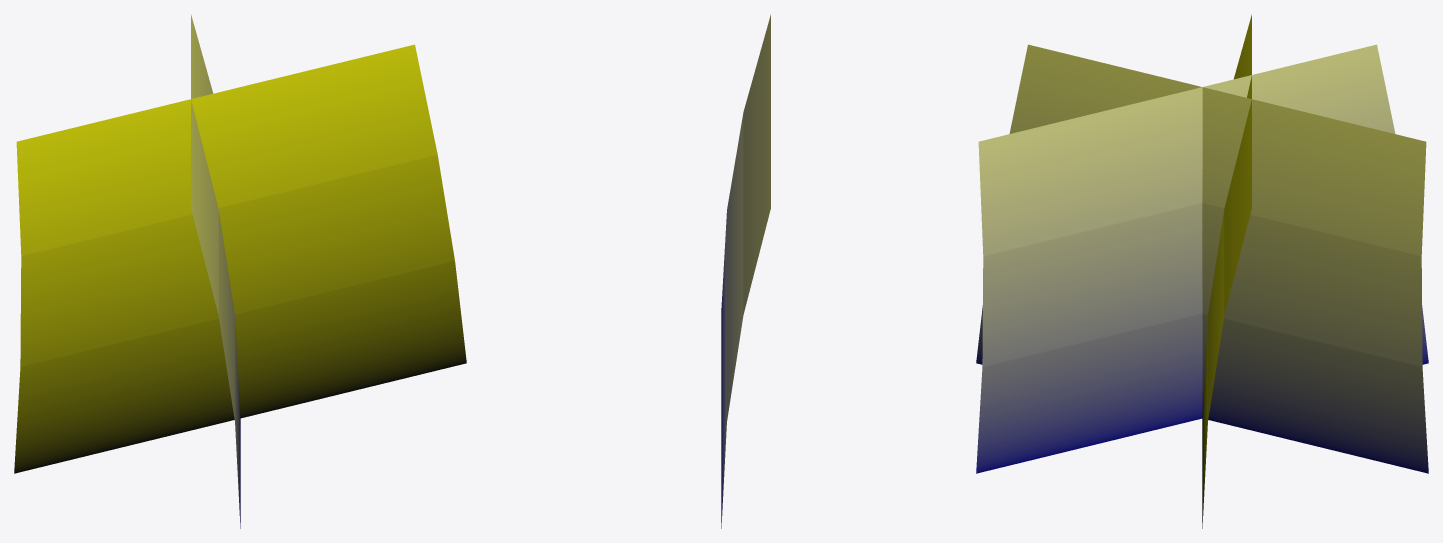
The model's file is grass_soft.glb.
The picture shows the model from 3 angles, left to right: view 1: azimuth 30°, elevation 25°; view 2: azimuth 150°, elevation 25°; view 3: azimuth 270°, elevation 25°; orthographic projection.
Visible parts, largest first — view 1: grass_soft; view 2: grass_soft; view 3: grass_soft.
Boxes of the visible parts, bbox=[...] form: grass_soft: bbox=[14, 14, 466, 528]; grass_soft: bbox=[721, 14, 770, 528]; grass_soft: bbox=[976, 14, 1428, 528].
Bounding box in the file's own units: 0.74 × 0.48 × 0.6409.
